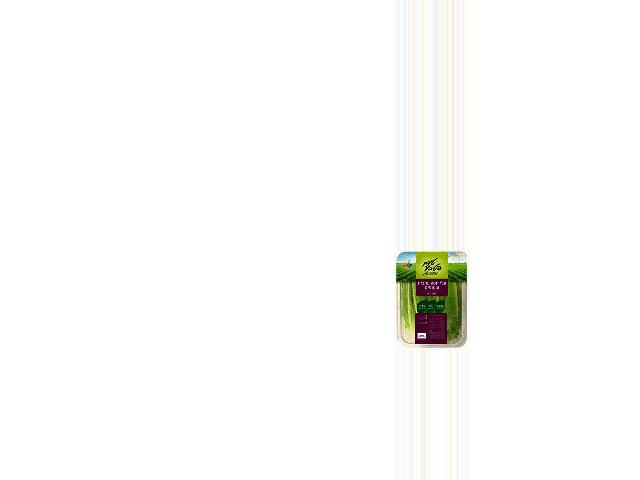lettuce: (394, 258, 467, 348)
